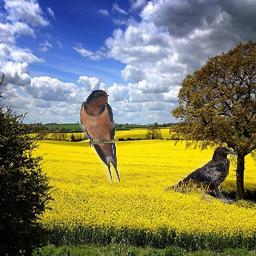Crow: (162, 146, 238, 203)
Swallow: (79, 89, 120, 182)
